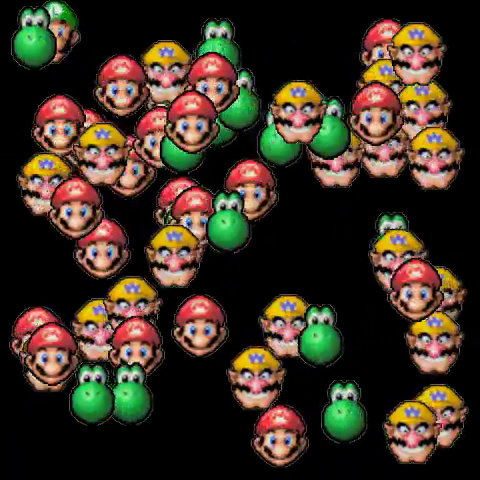luigi: (42, 6, 81, 65)
